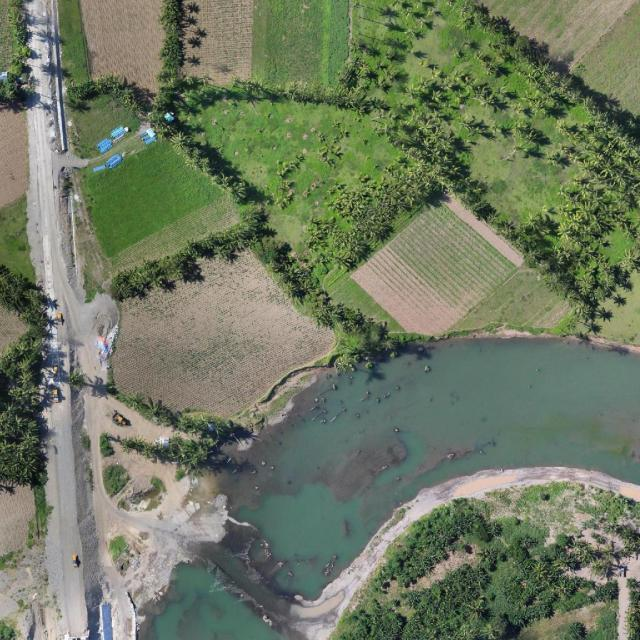agricultural_land: (83, 222, 345, 456), (351, 190, 517, 354), (65, 118, 224, 259), (450, 260, 574, 378), (103, 193, 243, 284), (65, 88, 145, 159), (54, 0, 90, 85)
dryland: (69, 376, 233, 640), (0, 486, 59, 640), (0, 106, 28, 207), (0, 306, 27, 350)
greenland: (251, 203, 410, 382), (105, 203, 278, 316), (0, 265, 49, 491), (0, 196, 36, 285)
unmetalled_road: (16, 0, 73, 319)
